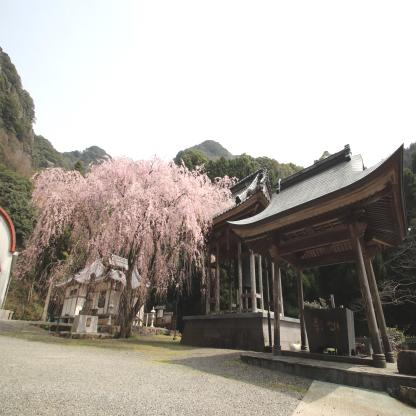ShidareZakura: (11, 152, 237, 326)
